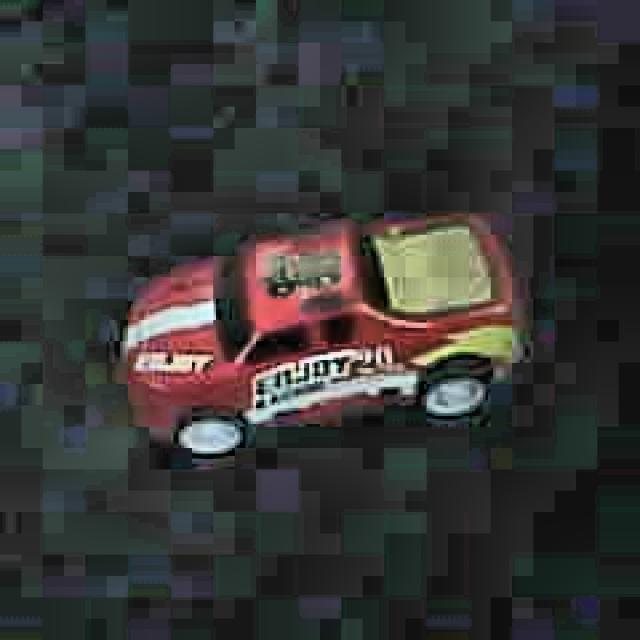car: (100, 202, 532, 466)
